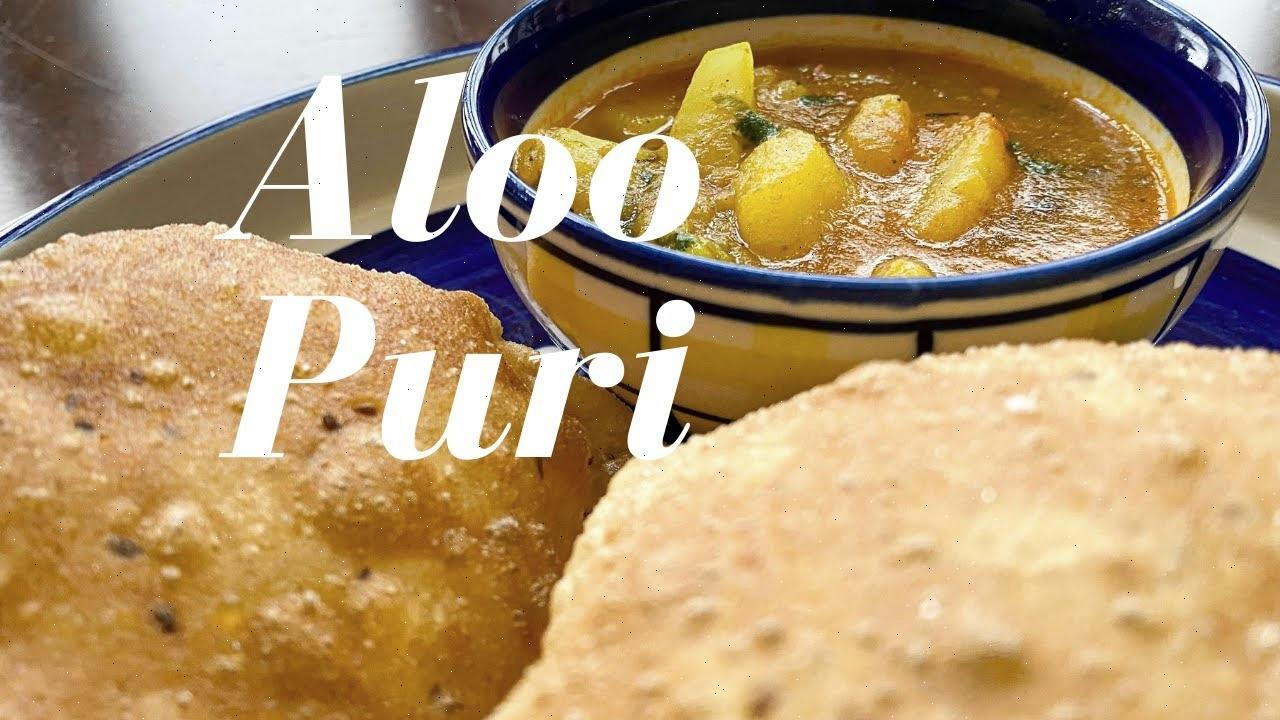puri: (682, 352, 1280, 720)
